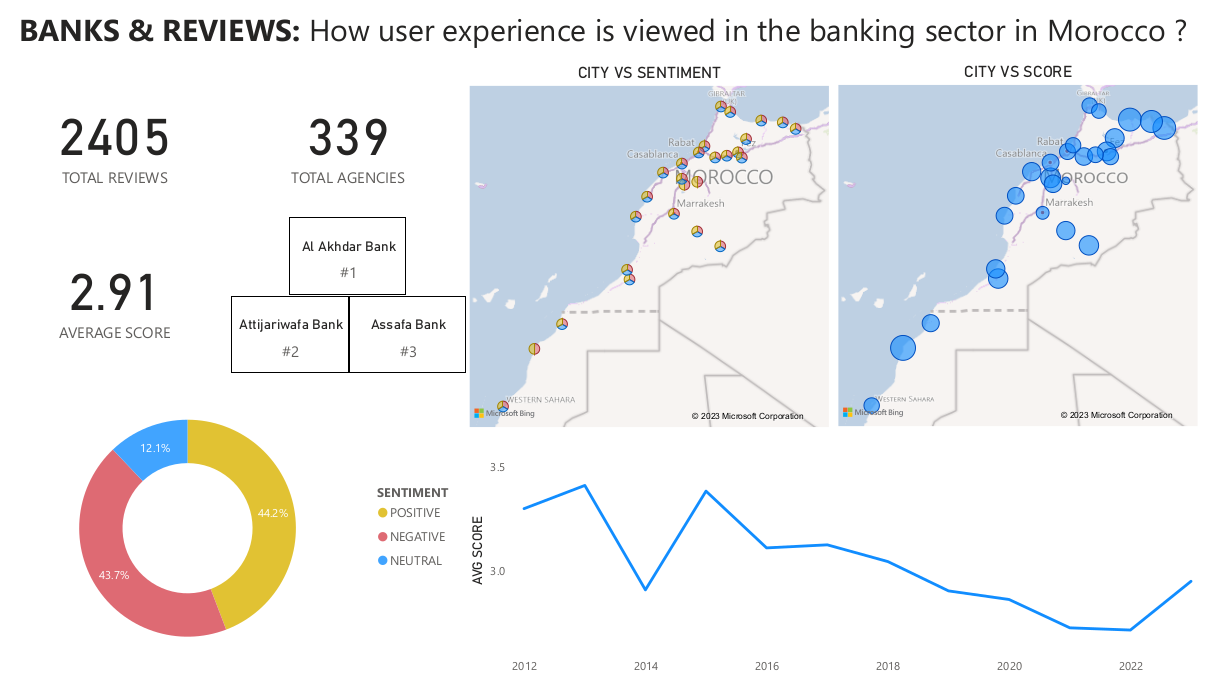

What the dashboard file says about the page in this screenshot:
{"tool":"powerbi","page":{"name":"main","canvas":[1280,720],"ordinal":0},"visuals":[{"type":"actionButton","box":[0,0,100,40],"z":0},{"type":"card","fields":{"Values":["CountNonNull(bank_reviews_data.review_id)"]},"box":[0,62.7,247,164.7],"z":1000},{"type":"textbox","box":[0,0,1280,62.7],"z":2000},{"type":"lineChart","title":"SCORE EVOLUTION","fields":{"Y":["Avg(bank_reviews_data.bank_score)"],"Category":["bank_reviews_data.review_date.Variation.Date Hierarchy.Year","bank_reviews_data.review_date.Variation.Date Hierarchy.Quarter","bank_reviews_data.review_date.Variation.Date Hierarchy.Month","bank_reviews_data.review_date.Variation.Date Hierarchy.Day"]},"box":[494.1,454.7,785.9,265],"z":3000},{"type":"donutChart","title":"MOST FREQUENT SENTIMENTS","fields":{"Category":["bank_reviews_data.review_sentiment"],"Y":["CountNonNull(bank_reviews_data.review_sentiment)"]},"box":[0,392.1,494.1,327.6],"z":4000},{"type":"map","title":"CITY VS SENTIMENT","fields":{"Category":["bank_reviews_data.bank_city"],"Series":["bank_reviews_data.review_sentiment"]},"box":[494.1,64.4,390.3,390.3],"z":5000},{"type":"card","fields":{"Values":["Avg(bank_reviews_data.bank_score)"]},"box":[0,227.4,247,164.7],"z":6000},{"type":"card","fields":{"Values":["Count(bank_reviews_data.bank_id)"]},"box":[247,64.4,247,162.9],"z":7000},{"type":"card","fields":{"Values":["Min(bank_reviews_data.bank_title)"]},"box":[307.9,227.4,123.5,82.3],"z":8000},{"type":"card","fields":{"Values":["Min(bank_reviews_data.bank_title)"]},"box":[370.6,309.7,123.5,82.3],"z":9000},{"type":"card","fields":{"Values":["Min(bank_reviews_data.bank_title)"]},"box":[247,309.7,123.5,82.3],"z":10000},{"type":"map","title":"CITY VS SCORE","fields":{"Category":["bank_reviews_data.bank_city"],"Size":["Avg(bank_reviews_data.bank_score)"]},"box":[884.4,62.7,390.3,390.3],"z":11000}]}

Visuals, with their boxes in screenshot pixels (x1, y1, x2, y2), scaled from the page's 1280x720 canvas onto the 1206x686 screenshot:
actionButton: bbox(0, 0, 94, 38)
card - CountNonNull(bank_reviews_data.review_id): bbox(0, 60, 233, 217)
textbox: bbox(0, 0, 1205, 60)
"SCORE EVOLUTION" lineChart: bbox(466, 433, 1205, 685)
"MOST FREQUENT SENTIMENTS" donutChart: bbox(0, 374, 466, 685)
"CITY VS SENTIMENT" map: bbox(466, 61, 833, 433)
card - Avg(bank_reviews_data.bank_score): bbox(0, 217, 233, 374)
card - Count(bank_reviews_data.bank_id): bbox(233, 61, 465, 217)
card - Min(bank_reviews_data.bank_title): bbox(290, 217, 406, 295)
card - Min(bank_reviews_data.bank_title): bbox(349, 295, 466, 373)
card - Min(bank_reviews_data.bank_title): bbox(233, 295, 349, 373)
"CITY VS SCORE" map: bbox(833, 60, 1201, 432)
